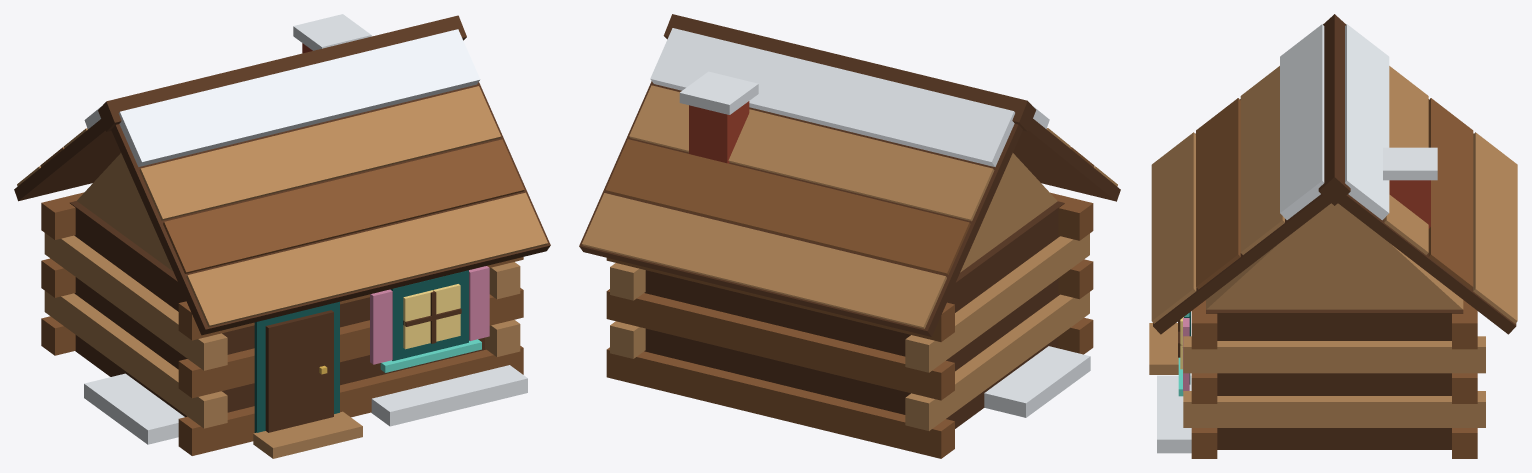
File: bld_izba.glb
3 renders of one model, left to right at view 1: azimuth 30°, elevation 25°; view 2: azimuth 150°, elevation 25°; view 3: azimuth 270°, elevation 25°, orthographic. The views are drawn at different scales.
Visible parts, largest first — view 1: bld_izba; view 2: bld_izba; view 3: bld_izba.
Boxes of the visible parts, box(x1,y1,x2,y2) form: bld_izba: box(14, 14, 550, 458); bld_izba: box(579, 14, 1120, 458); bld_izba: box(1149, 14, 1517, 458).
Bounding box in the file's own units: 5.25 × 4.19 × 4.87.
Materials: 1 (1 with a texture image).
